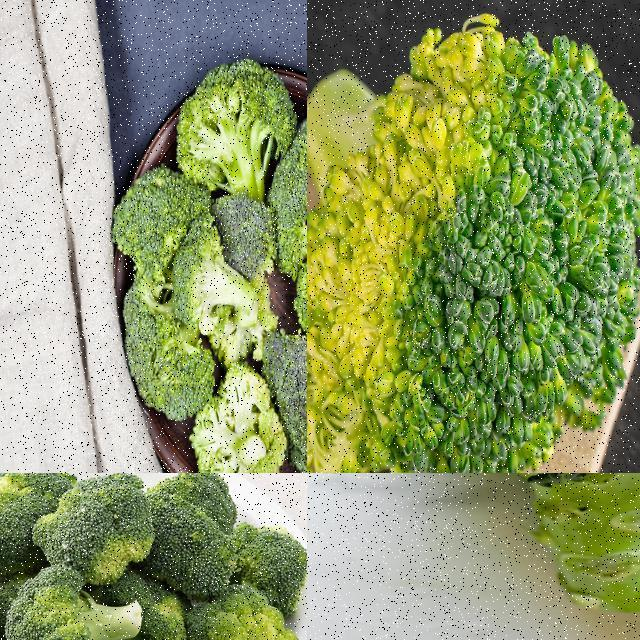broccoli: (307, 1, 639, 472), (0, 473, 301, 639), (337, 473, 639, 621), (174, 57, 294, 208), (124, 280, 225, 417), (168, 212, 255, 336), (196, 367, 291, 472), (270, 108, 306, 283)
